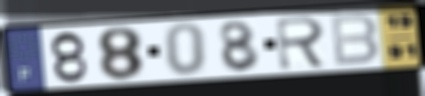0: (162, 21, 211, 79)
8: (96, 25, 148, 82), (217, 19, 263, 73), (49, 30, 89, 83)
B: (328, 12, 381, 68)
R: (274, 14, 330, 72)
